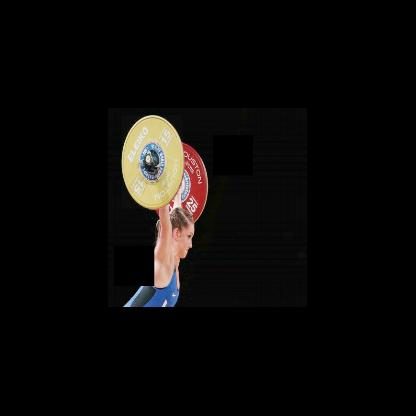barbell: (121, 116, 183, 209)
